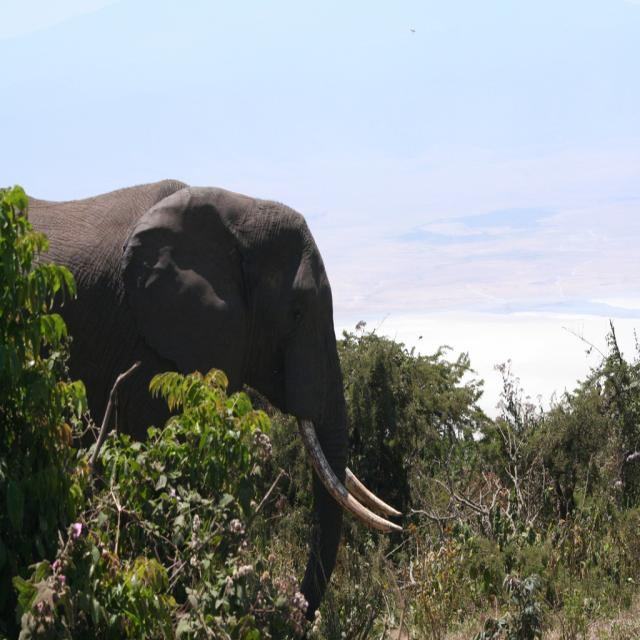elephant: (29, 187, 419, 586)
